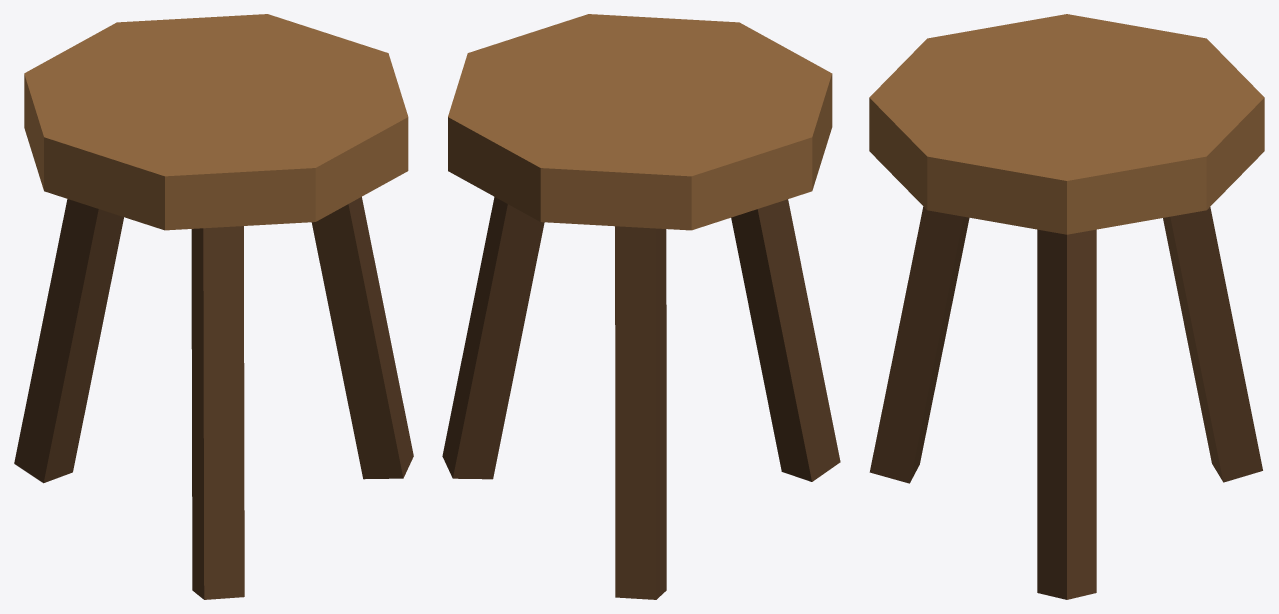
File: stool.glb
3 views of the same model, side by side, from view 1: azimuth 30°, elevation 25°; view 2: azimuth 150°, elevation 25°; view 3: azimuth 270°, elevation 25° (orthographic).
Parts seen in each view (by area): view 1: stool; view 2: stool; view 3: stool.
Part boxes in pixels (box(x1,y1,x2,y2)): stool: box(14, 14, 413, 599); stool: box(442, 14, 840, 599); stool: box(869, 14, 1264, 599).
Size of what is drawn, in the model's own units: 0.4294 by 0.4659 by 0.4.
